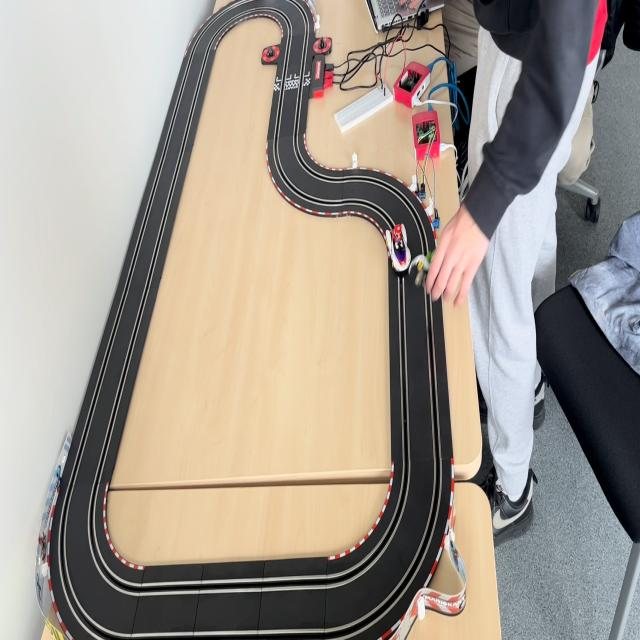mario: (385, 223, 409, 276)
yoshi: (403, 248, 442, 295)
